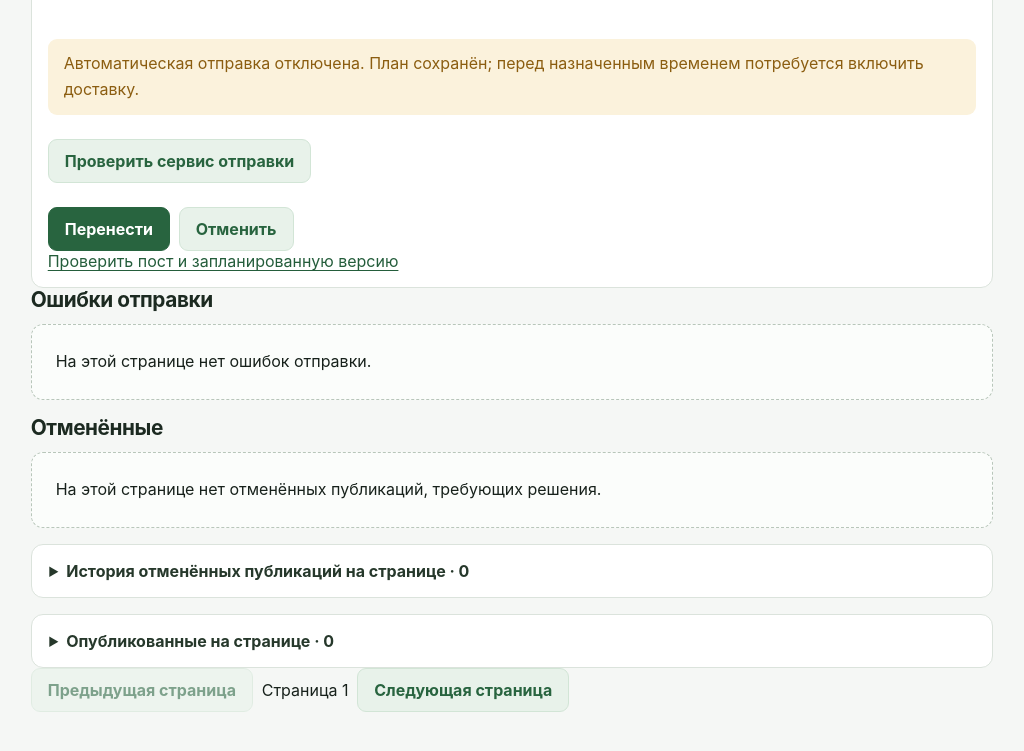
Test case: snapshot failures and pagination › keeps the current page after failed navigation and retries the requested cursor
(page scrolled)
Click the button "Следующая страница" at (463, 690), box left=357, top=668, right=569, bottom=712
(page scrolled)
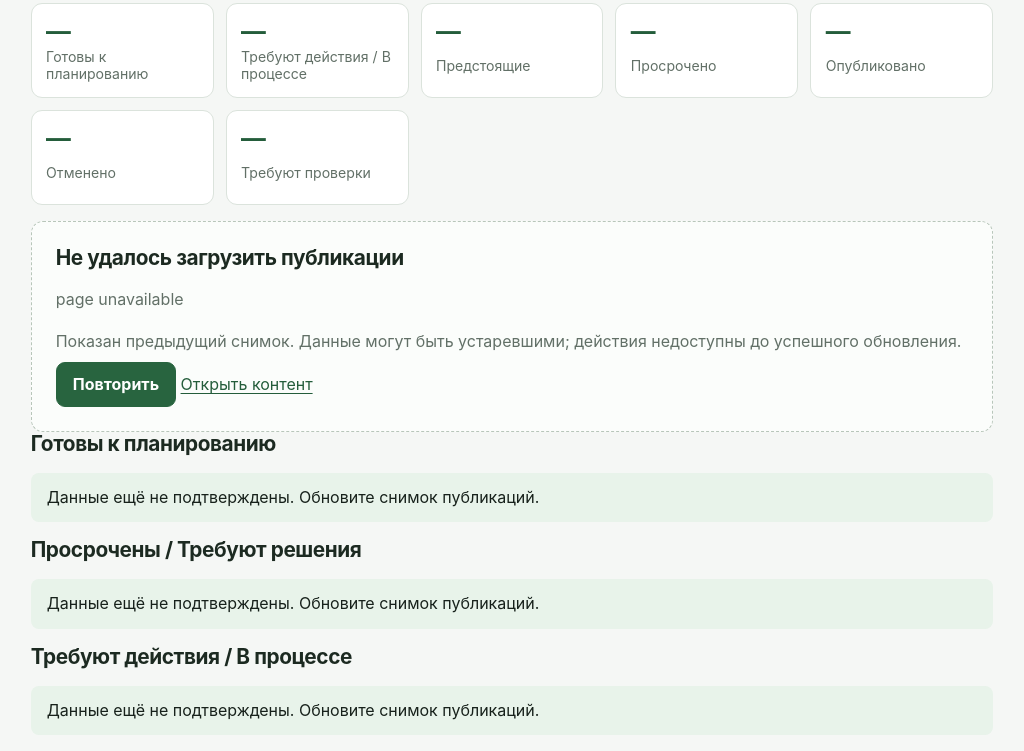
Check: the message shows "page unavailable", box left=56, top=289, right=184, bottom=309
Click the button "Повторить" at (116, 384), box left=56, top=362, right=176, bottom=407
(page scrolled)
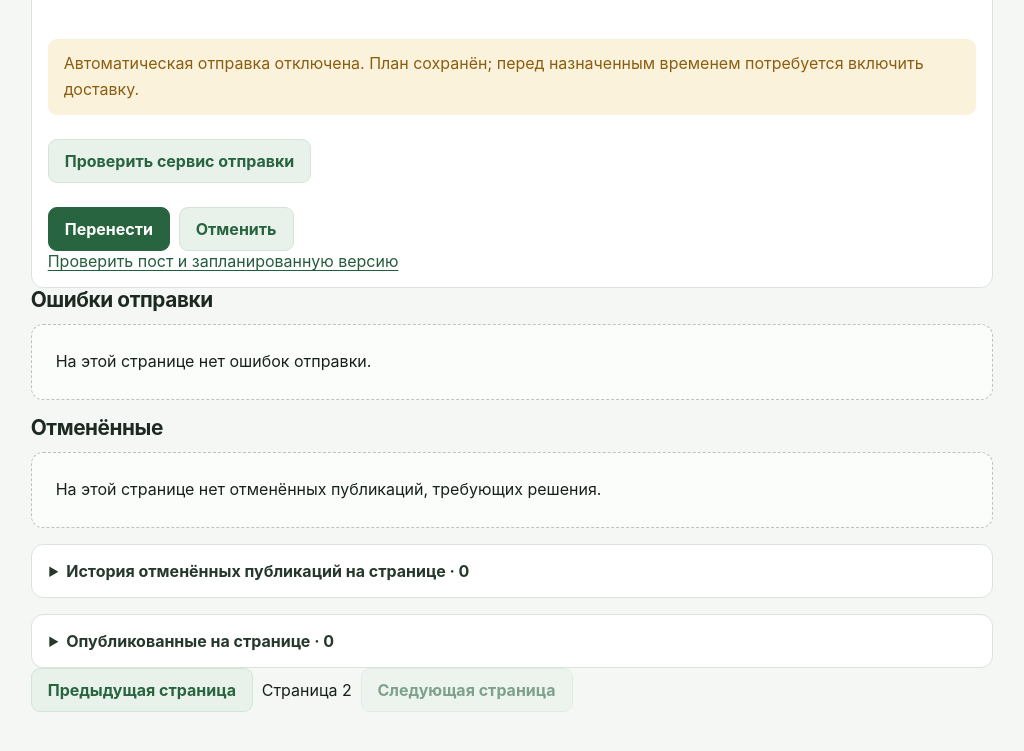
Check: the text "Страница 2" is shown, box left=262, top=680, right=352, bottom=700
